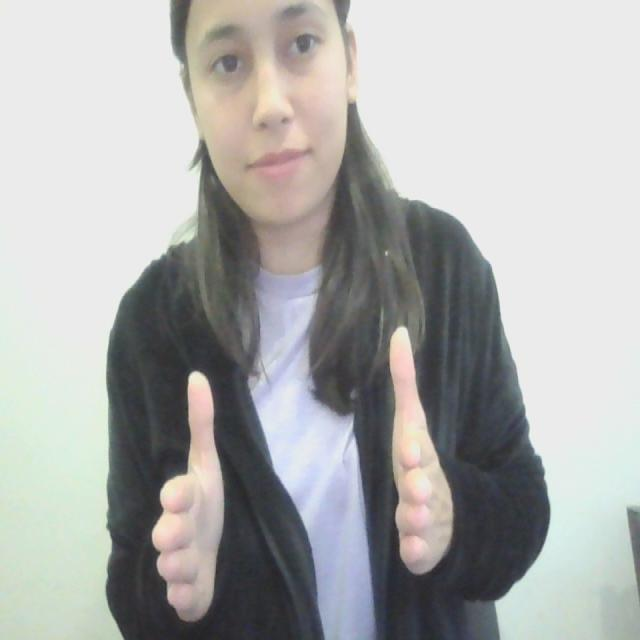Nasil: (139, 320, 464, 620)
